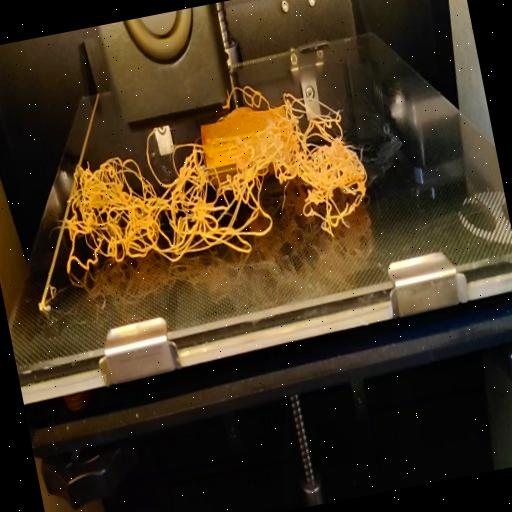spaghetti: (41, 126, 199, 286), (262, 79, 378, 245), (176, 115, 290, 266), (220, 75, 266, 114)
